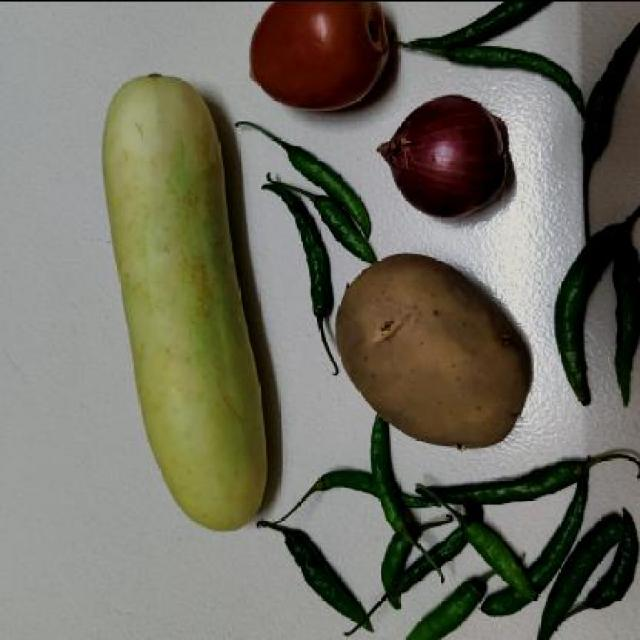Pepper: (378, 452, 640, 640), (394, 0, 640, 94), (541, 215, 640, 402), (560, 16, 640, 238), (262, 509, 376, 640)
onion: (372, 94, 520, 231)
potato: (332, 246, 532, 443)
tomato: (240, 0, 392, 117)
